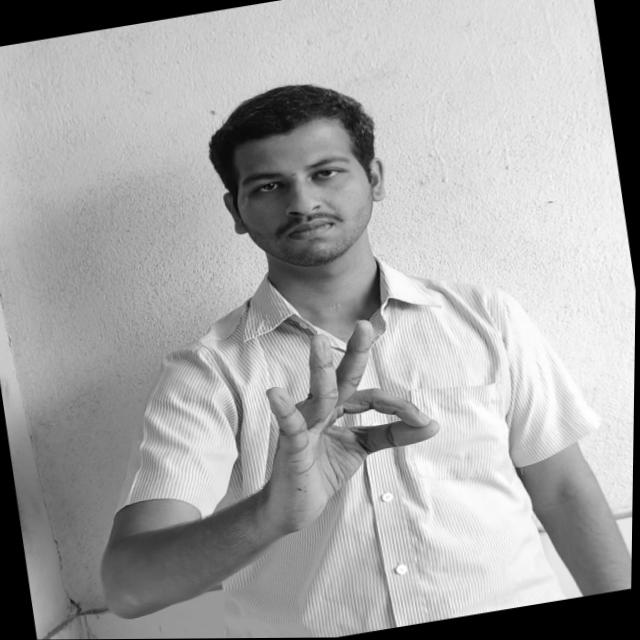Superb: (248, 309, 460, 522)
